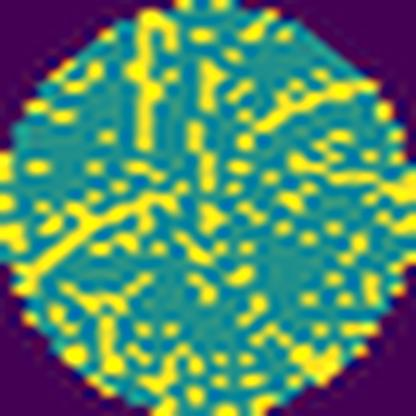Scratch: (11, 174, 196, 302), (236, 63, 380, 157), (284, 124, 416, 207), (122, 9, 182, 155)
